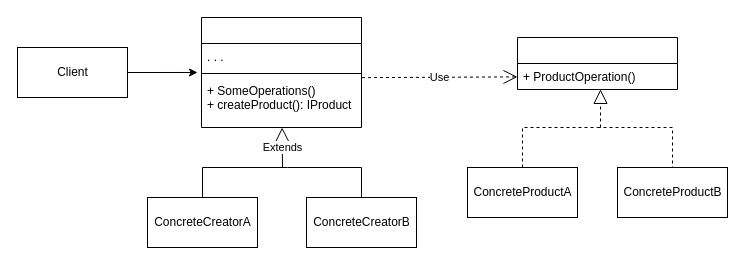
The diagram is 745 pixels wide and 265 high, and some of its shapes have lost their labels. Each missing label, with the box of its shape:
Creator: (200, 16, 362, 128)
IProduct: (516, 36, 678, 90)
